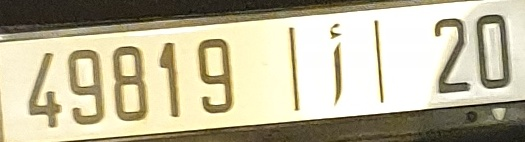0: (474, 12, 513, 91)
1: (158, 40, 183, 118)
2: (432, 16, 472, 95)
4: (26, 51, 64, 130)
8: (111, 45, 149, 121)
9: (66, 48, 105, 128), (196, 37, 235, 115)
a: (324, 20, 349, 108)
